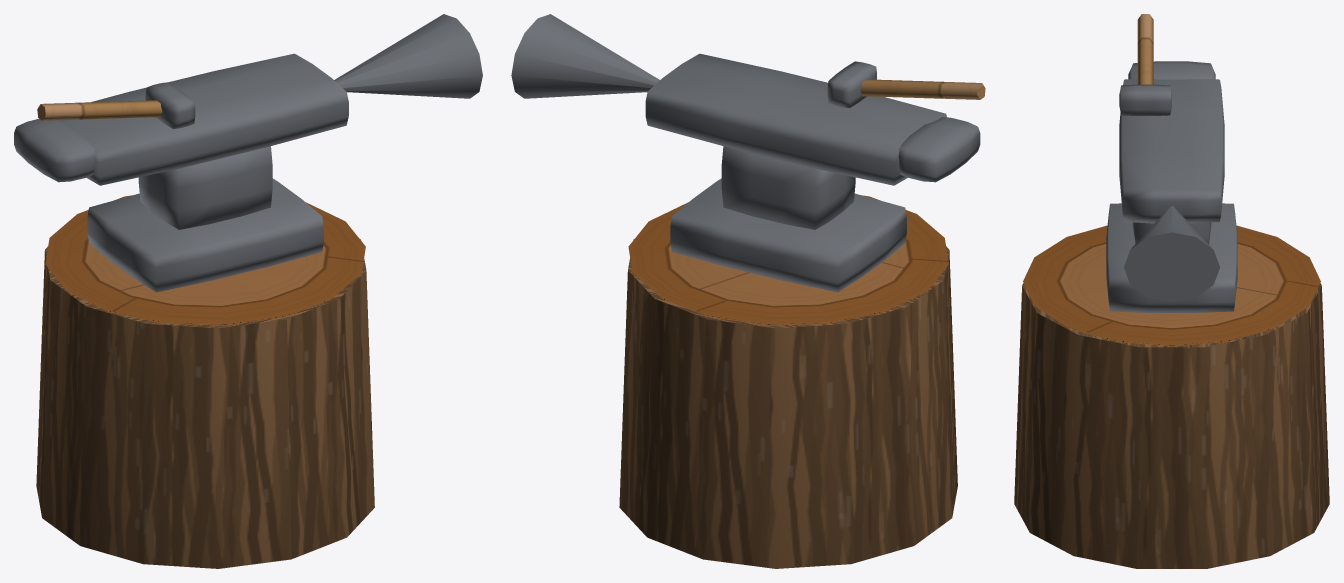
File: station_anvil.glb
3 renders of one model, left to right at view 1: azimuth 30°, elevation 25°; view 2: azimuth 150°, elevation 25°; view 3: azimuth 270°, elevation 25°, orthographic. The views are drawn at different scales.
Visible parts, largest first — view 1: station_anvil_log, station_anvil; view 2: station_anvil_log, station_anvil; view 3: station_anvil_log, station_anvil.
Part boxes in pixels (box(x1,y1,x2,y2)): station_anvil_log: box(36, 239, 374, 568); station_anvil: box(14, 14, 482, 325); station_anvil_log: box(619, 239, 957, 568); station_anvil: box(511, 14, 985, 325); station_anvil_log: box(1014, 283, 1329, 568); station_anvil: box(1023, 14, 1320, 346).
Size of the model in its own units: 1.05 by 1.03 by 0.72.
3 materials, 2 textured.
